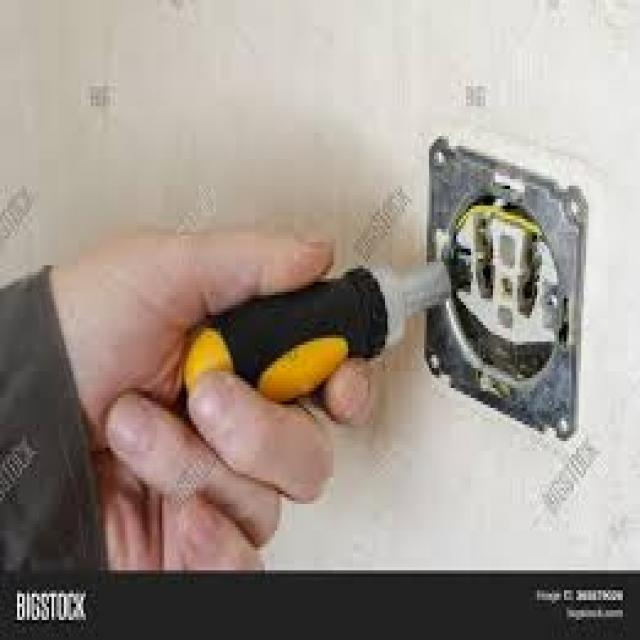screwdriver: (172, 247, 478, 416)
